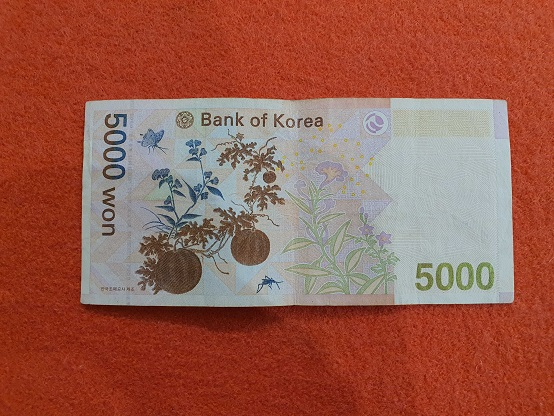5000won: (81, 96, 517, 307)
